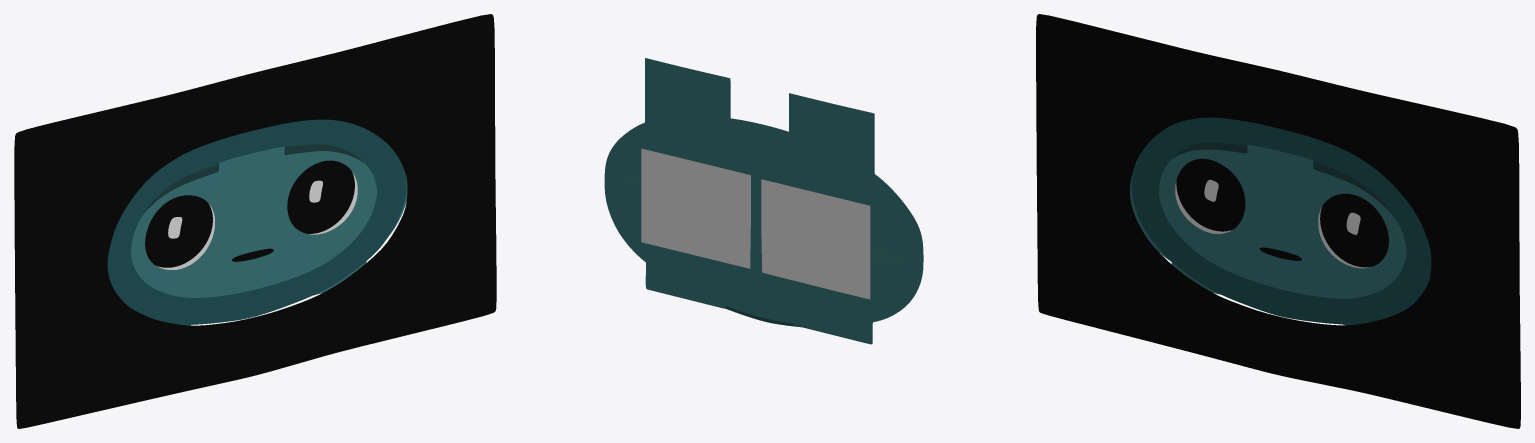
File: Quori_Current_Extended.glb
The picture shows the model from 3 angles, left to right: view 1: azimuth 30°, elevation 25°; view 2: azimuth 150°, elevation 25°; view 3: azimuth 330°, elevation 25°; orthographic projection.
Parts seen in each view (by area): view 1: Background, InnerFace, OuterFace001, L_Eye, R_Eye, OuterFace001_1; view 2: InnerFace, L_EyeWhite, R_EyeWhite, RTLid, LTLid, LBLid, RBLid; view 3: Background, InnerFace, OuterFace001, L_Eye, R_Eye, OuterFace001_1.
Boxes of the visible parts, left/top/right/bottom form: Background: left=14, top=14, right=496, bottom=428; InnerFace: left=131, top=146, right=407, bottom=297; OuterFace001: left=107, top=119, right=406, bottom=324; L_Eye: left=287, top=160, right=354, bottom=233; R_Eye: left=145, top=195, right=212, bottom=267; OuterFace001_1: left=145, top=144, right=363, bottom=211; InnerFace: left=604, top=118, right=923, bottom=323; L_EyeWhite: left=641, top=148, right=750, bottom=268; R_EyeWhite: left=761, top=179, right=870, bottom=299; RTLid: left=789, top=93, right=874, bottom=208; LTLid: left=645, top=58, right=730, bottom=169; LBLid: left=645, top=243, right=725, bottom=308; RBLid: left=792, top=280, right=872, bottom=344; Background: left=1036, top=14, right=1520, bottom=428; InnerFace: left=1130, top=145, right=1406, bottom=298; OuterFace001: left=1131, top=117, right=1431, bottom=324; L_Eye: left=1320, top=193, right=1388, bottom=267; R_Eye: left=1176, top=158, right=1245, bottom=231; OuterFace001_1: left=1172, top=142, right=1392, bottom=215.
Bounding box in the file's own units: 22.58 × 13.65 × 0.7381.
